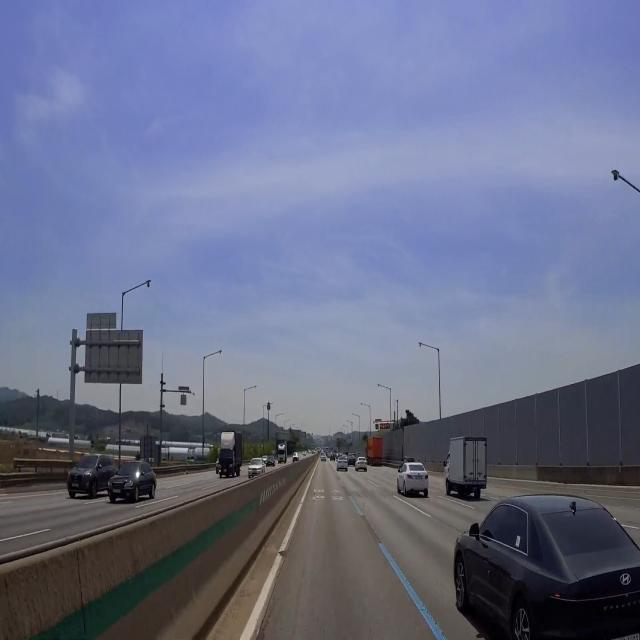car: (609, 632, 640, 640), (110, 484, 125, 498), (412, 472, 425, 485), (69, 481, 81, 494)
